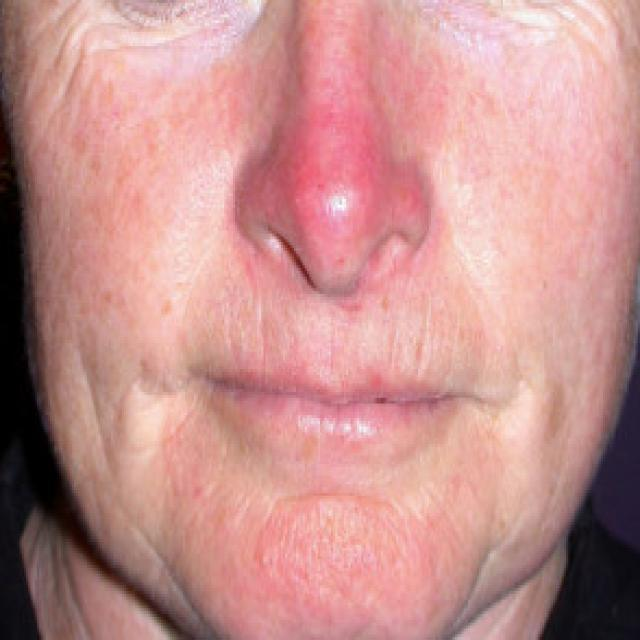Rosacea: (246, 37, 430, 275), (174, 500, 458, 640)
